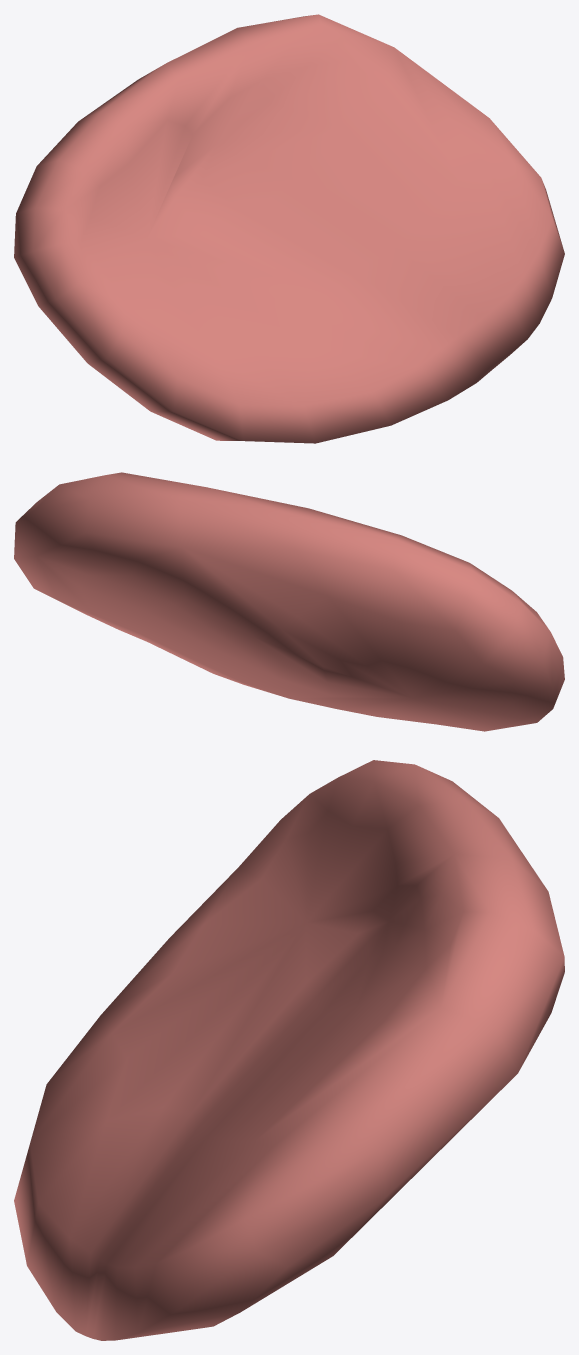
The picture shows the model from 3 angles, top to bottom: view 1: azimuth 30°, elevation 25°; view 2: azimuth 150°, elevation 25°; view 3: azimuth 270°, elevation 25°; orthographic projection. The views are drawn at different scales.
Visible parts, largest first — view 1: ZA_a8b19202220c531b; view 2: ZA_a8b19202220c531b; view 3: ZA_a8b19202220c531b.
Part boxes in pixels (x1,y1,x2,y2): ZA_a8b19202220c531b: [14, 14, 564, 443]; ZA_a8b19202220c531b: [14, 472, 564, 731]; ZA_a8b19202220c531b: [14, 760, 564, 1340].
Bounding box in the file's own units: 0.00323 × 0.00176 × 0.00205.
